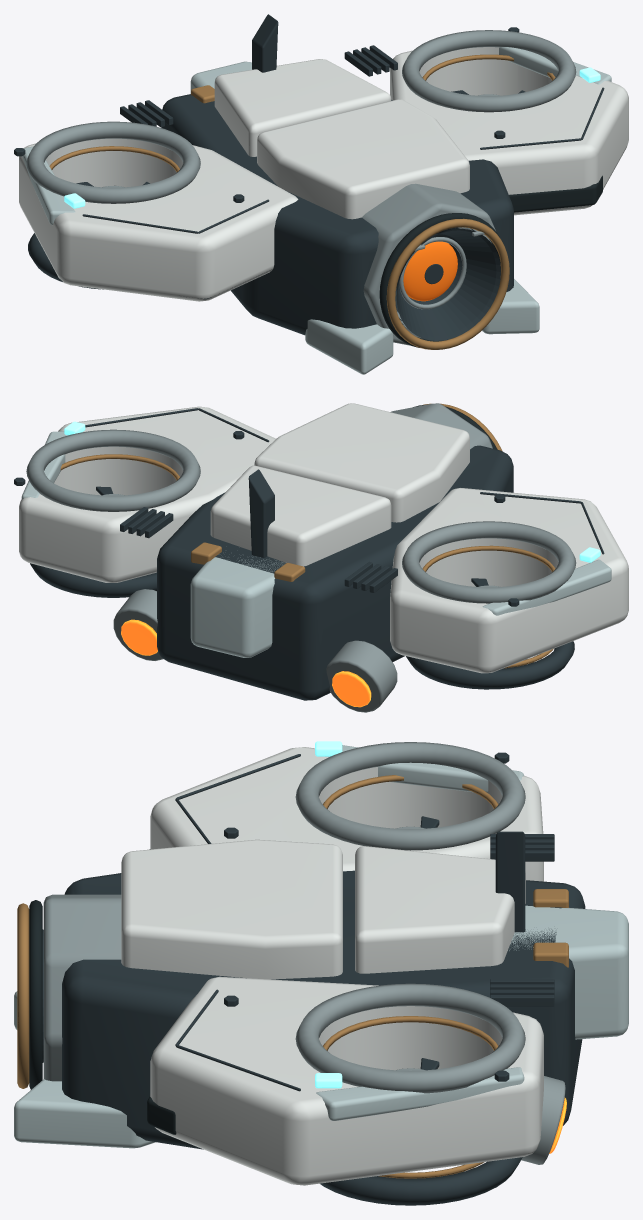
File: interceptor.glb
3 renders of one model, top to bottom at view 1: azimuth 30°, elevation 25°; view 2: azimuth 150°, elevation 25°; view 3: azimuth 270°, elevation 25°, orthographic. The views are drawn at different scales.
Parts seen in each view (by area): view 1: Orbital_Ceramic | authored assembly, Orbital_Graphite | authored assembly, Orbital_MachinedMetal | authored assembly, Orbital_CoolCeramic | authored assembly, Orbital_Copper | authored assembly, Orbital_Seal | authored assembly, Core_Emitter, Orbital_Plasma | authored assembly; view 2: Orbital_Ceramic | authored assembly, Orbital_Graphite | authored assembly, Orbital_MachinedMetal | authored assembly, Orbital_CoolCeramic | authored assembly, Orbital_Copper | authored assembly, Orbital_AmberEmitter | authored assembly, Orbital_Plasma | authored assembly; view 3: Orbital_Ceramic | authored assembly, Orbital_Graphite | authored assembly, Orbital_MachinedMetal | authored assembly, Orbital_CoolCeramic | authored assembly, Orbital_Copper | authored assembly, Orbital_Seal | authored assembly, Orbital_Plasma | authored assembly.
Boxes of the visible parts, x1,y1,x2,y2 form: Orbital_Ceramic | authored assembly: [19, 47, 628, 301]; Orbital_Graphite | authored assembly: [14, 14, 604, 340]; Orbital_MachinedMetal | authored assembly: [26, 30, 576, 349]; Orbital_CoolCeramic | authored assembly: [22, 47, 611, 374]; Orbital_Copper | authored assembly: [49, 54, 555, 349]; Orbital_Seal | authored assembly: [179, 175, 602, 347]; Core_Emitter: [403, 241, 457, 301]; Orbital_Plasma | authored assembly: [64, 67, 600, 208]; Orbital_Ceramic | authored assembly: [19, 403, 628, 673]; Orbital_Graphite | authored assembly: [14, 408, 604, 700]; Orbital_MachinedMetal | authored assembly: [26, 403, 576, 712]; Orbital_CoolCeramic | authored assembly: [21, 431, 611, 657]; Orbital_Copper | authored assembly: [60, 403, 555, 668]; Orbital_AmberEmitter | authored assembly: [121, 619, 371, 707]; Orbital_Plasma | authored assembly: [64, 421, 600, 562]; Orbital_Ceramic | authored assembly: [121, 747, 543, 1185]; Orbital_Graphite | authored assembly: [42, 752, 585, 1205]; Orbital_MachinedMetal | authored assembly: [43, 742, 565, 1164]; Orbital_CoolCeramic | authored assembly: [14, 745, 628, 1148]; Orbital_Copper | authored assembly: [17, 775, 568, 1178]; Orbital_Seal | authored assembly: [29, 849, 176, 1134]; Orbital_Plasma | authored assembly: [315, 741, 342, 1088].
Bounding box in the file's own units: 1.05 × 0.3585 × 0.7469.
